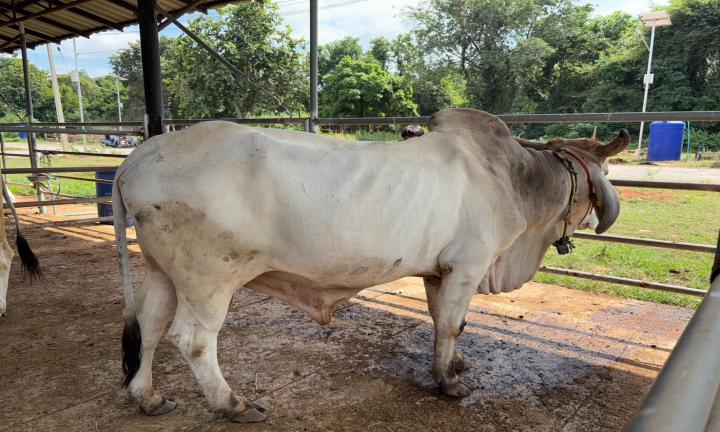Brahman: (112, 108, 629, 422)
